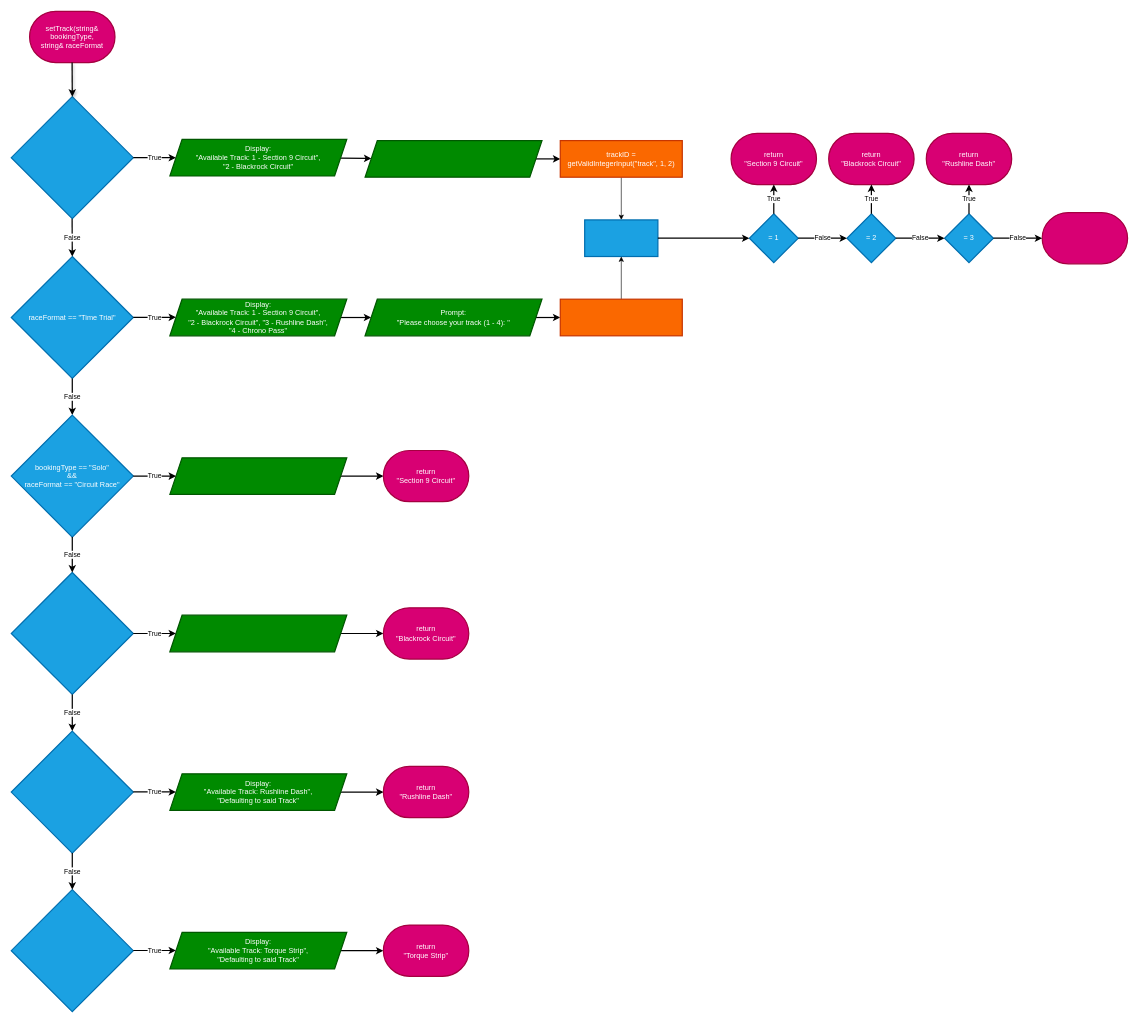
Image size: 1138x1022. Some labels were removed from this diagram. Here are the shapes that lost their labels. From the top down, the centre of each, then its label:
[72,157]: bookingType == "Group" && raceFormat == "Circuit Race"
[453,159]: Prompt: "Please choose your track (1 - 2): "
[621,238]: trackID
[1084,238]: return "Chrono Pass"
[621,317]: trackID = getValidIntegerInput("track", 1, 4)
[258,476]: Display: "Available Track: Section 9 Circuit", "Defaulting to said Track"
[72,633]: raceFormat == "Elimination Race"
[258,633]: Display: "Available Track: Blackrock Circuit", "Defaulting to said Track"
[72,791]: raceFormat == "Sprint Race"
[72,950]: raceFormat == "Drag Race"
